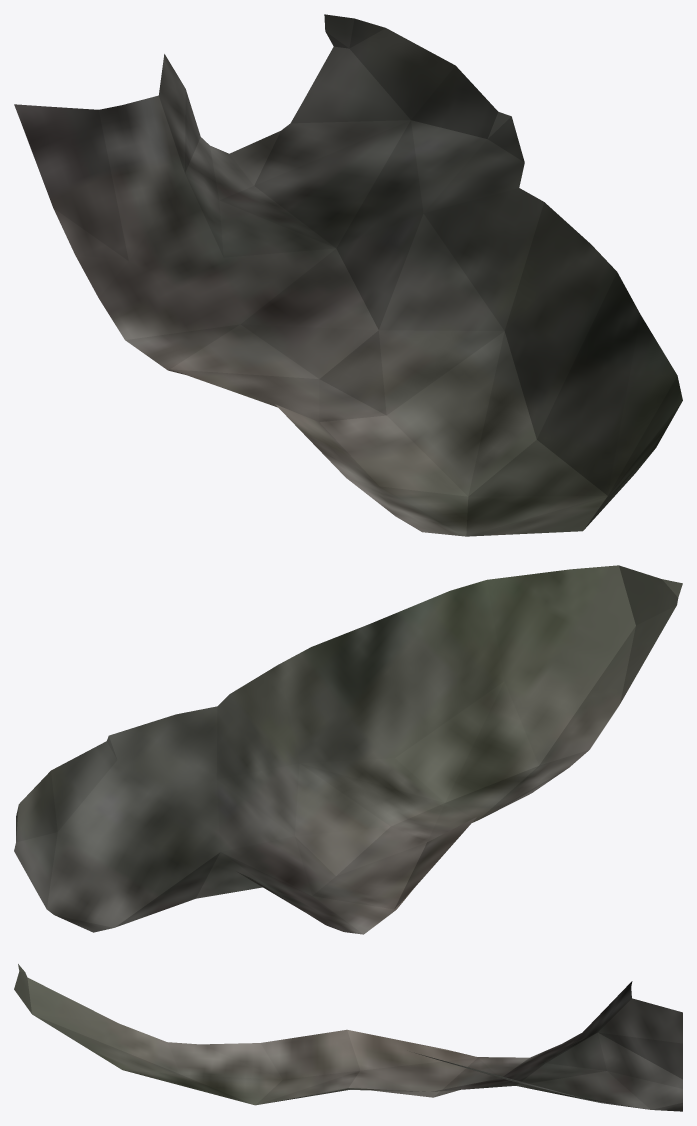
3 renders of one model, top to bottom at view 1: azimuth 30°, elevation 25°; view 2: azimuth 150°, elevation 25°; view 3: azimuth 270°, elevation 25°, orthographic. The views are drawn at different scales.
Size of the model in its own units: 0.9872 by 0.4454 by 2.53.
Materials: 1 (1 with a texture image).
